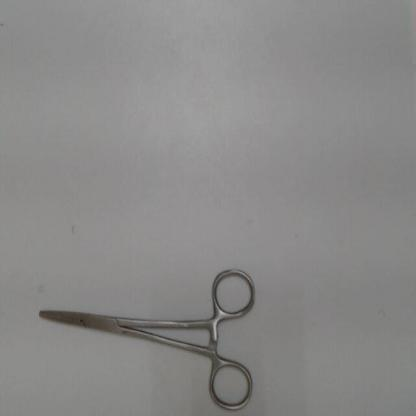Mayo Needle Holder: (31, 261, 262, 414)
